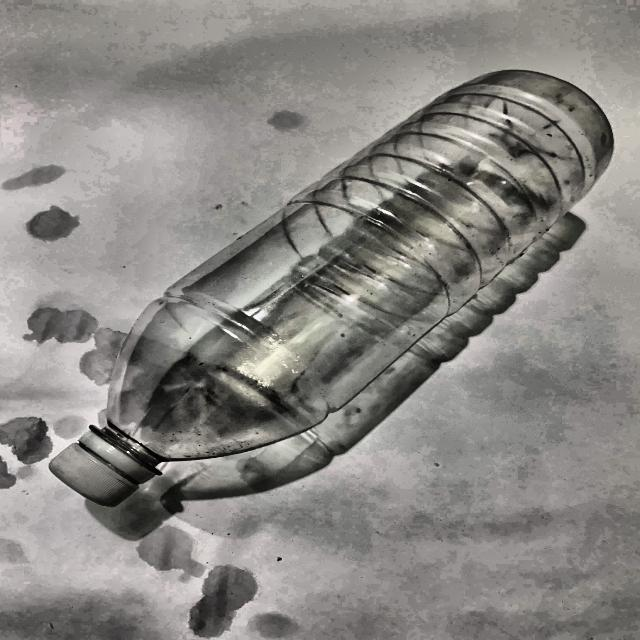Bottles: (45, 62, 620, 512)
